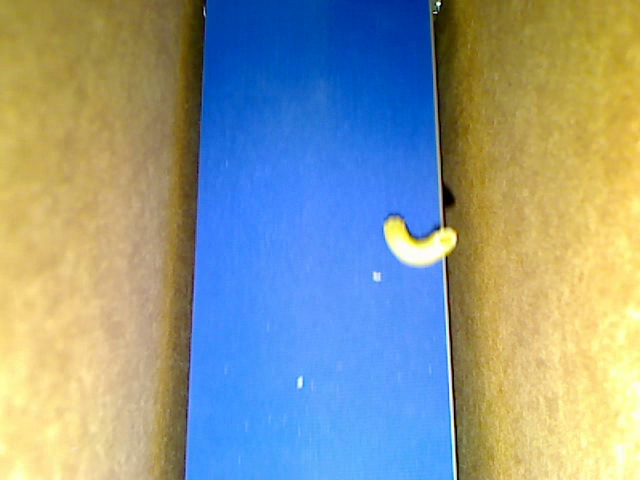elbow: (383, 213, 457, 269)
